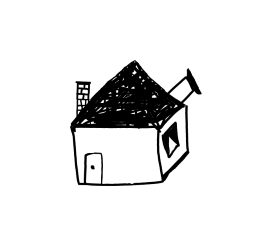chimney: (161, 65, 207, 107), (68, 73, 93, 118)
door: (82, 147, 111, 189)
open_window: (159, 119, 185, 160)
shaded_roof: (63, 57, 189, 132)
small_house: (1, 1, 260, 249)
wall: (68, 124, 166, 191)
